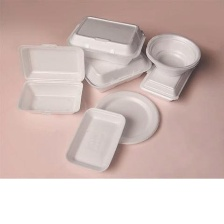foam_box: (12, 40, 90, 120), (60, 103, 128, 174), (62, 13, 149, 67), (88, 88, 164, 149), (74, 50, 154, 94), (143, 28, 203, 77), (137, 60, 198, 103)
